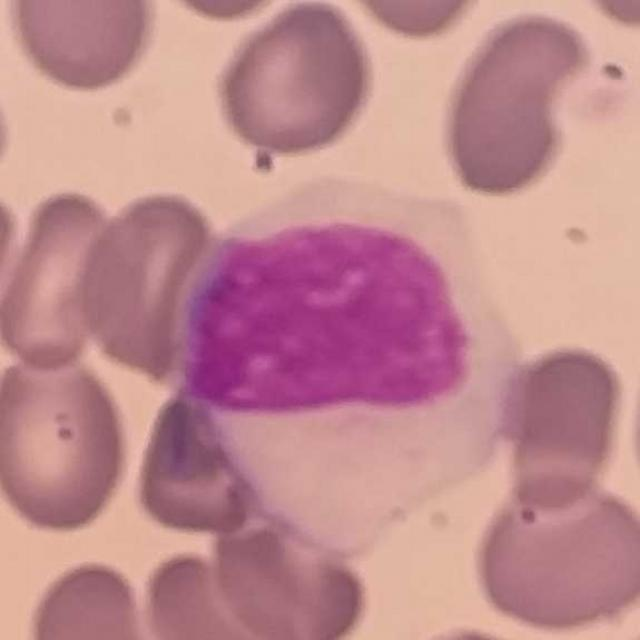Monocyte: (184, 178, 520, 549)
RBC: (432, 4, 624, 202), (70, 184, 225, 380), (467, 467, 640, 638), (209, 0, 380, 159), (0, 346, 136, 538), (0, 182, 130, 376), (489, 338, 631, 507), (206, 504, 376, 640), (128, 390, 266, 542), (136, 541, 319, 640), (0, 0, 163, 97), (20, 554, 175, 640), (328, 0, 494, 42), (134, 0, 306, 23), (0, 180, 23, 337), (564, 0, 639, 33)
